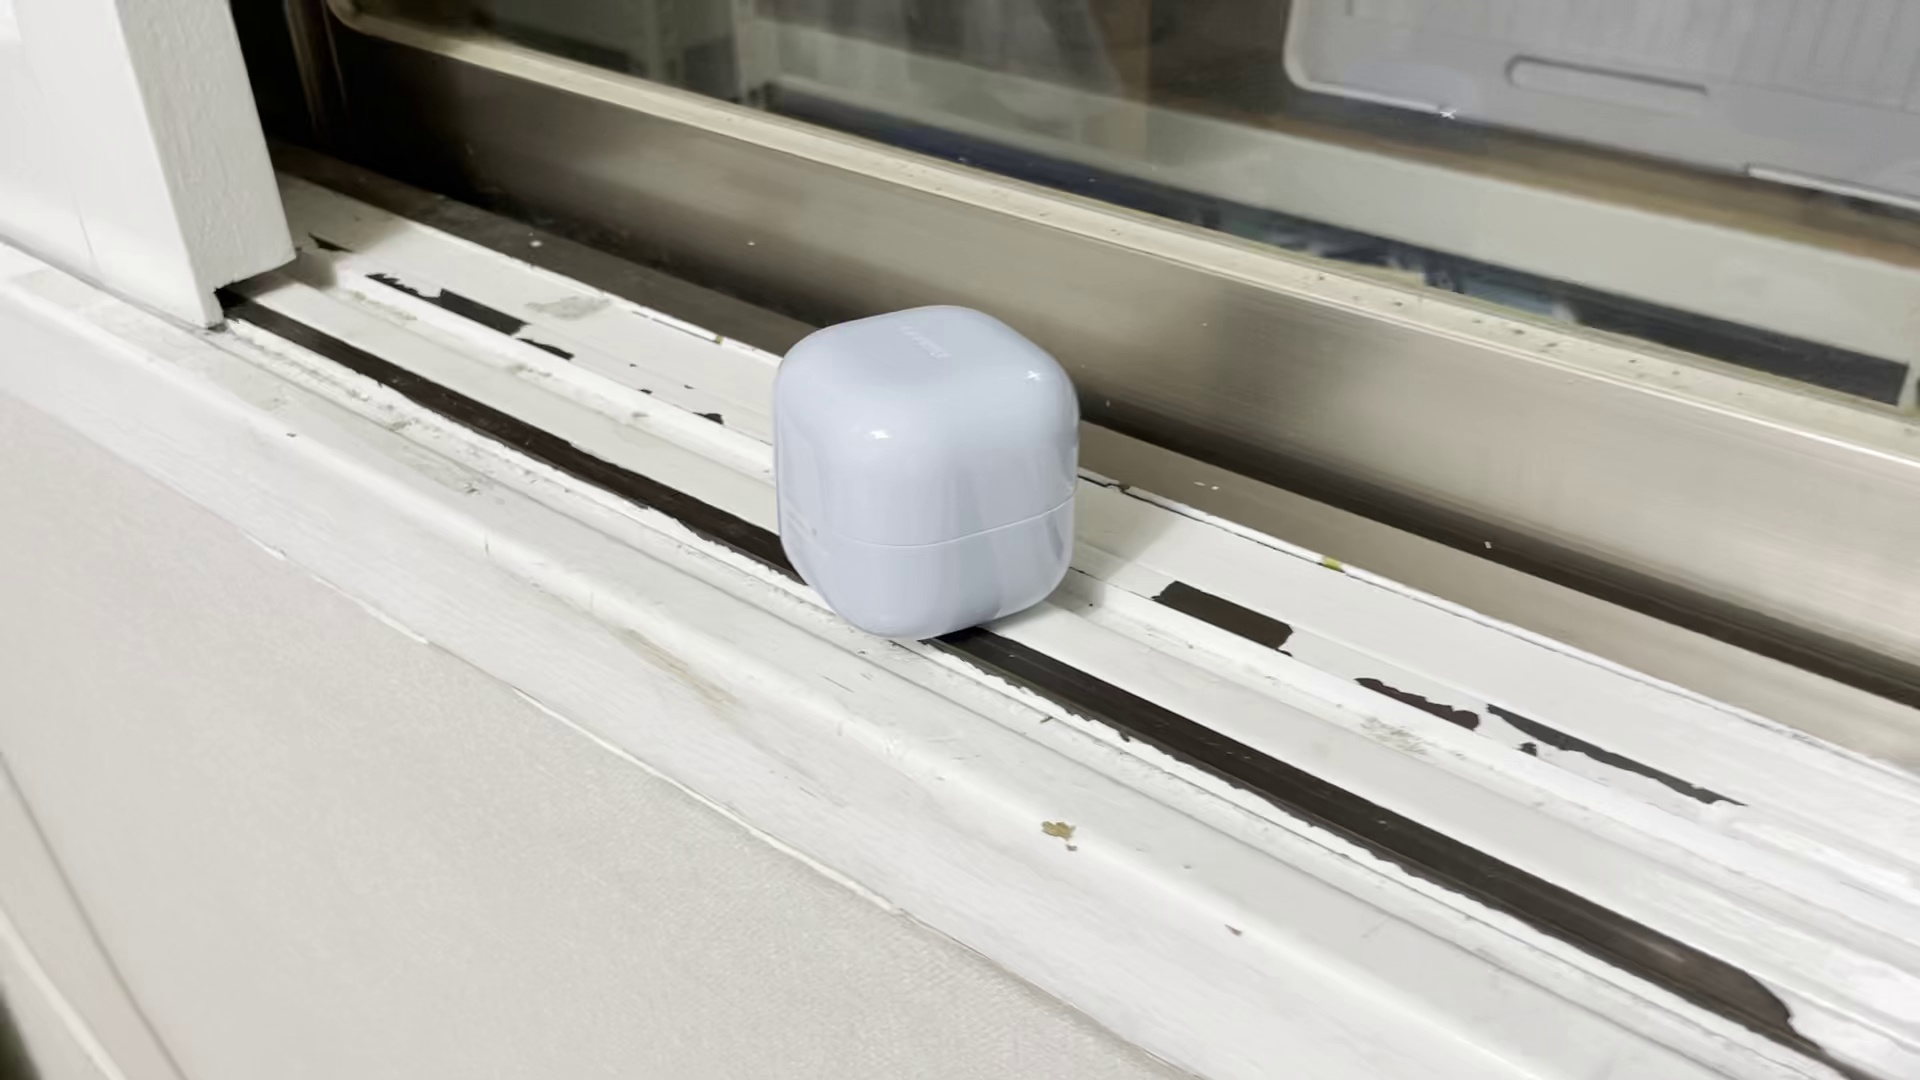cream: (775, 305, 1081, 640)
